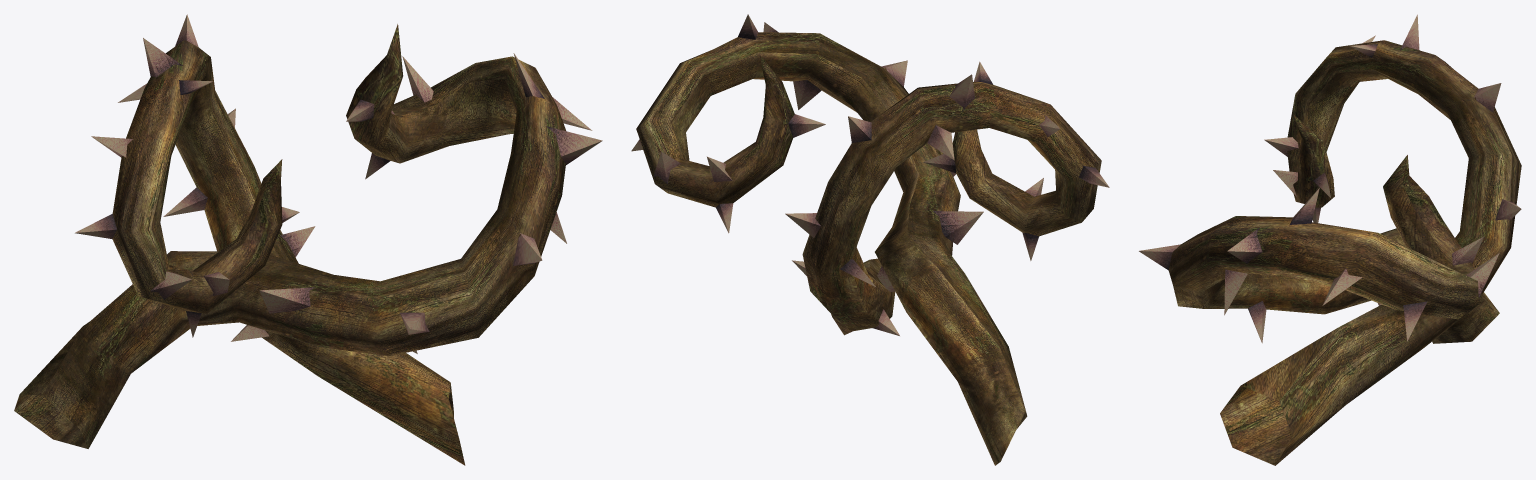
File: obj_mtthund_thorn05c.fbx
3 renders of one model, left to right at view 1: azimuth 30°, elevation 25°; view 2: azimuth 150°, elevation 25°; view 3: azimuth 270°, elevation 25°, orthographic. The views are drawn at different scales.
Parts seen in each view (by area): view 1: obj_mtthund_thorn05C; view 2: obj_mtthund_thorn05C; view 3: obj_mtthund_thorn05C.
Boxes of the visible parts, x1,y1,x2,y2 form: obj_mtthund_thorn05C: [14, 14, 602, 465]; obj_mtthund_thorn05C: [631, 14, 1109, 465]; obj_mtthund_thorn05C: [1139, 14, 1521, 465].
Size of the model in its own units: 11.77 by 9.18 by 8.95.
